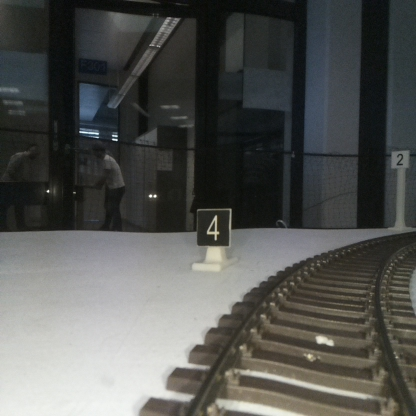black-stop-4: (197, 210, 229, 272)
white-info-2: (391, 150, 408, 227)
